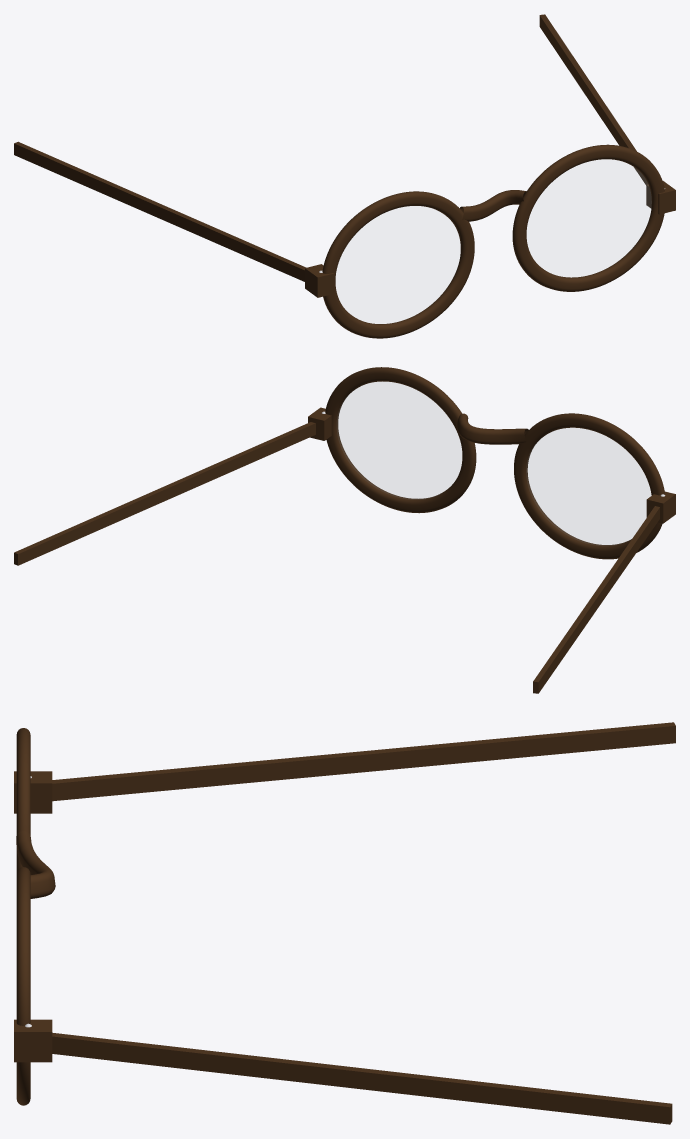
The model's file is glasses_fit.fbx.
3 views of the same model, one above another, from view 1: azimuth 30°, elevation 25°; view 2: azimuth 150°, elevation 25°; view 3: azimuth 270°, elevation 25° (orthographic). The views are drawn at different scales.
Parts seen in each view (by area): view 1: SM_Glasses_Fit; view 2: SM_Glasses_Fit; view 3: SM_Glasses_Fit.
Boxes of the visible parts, box(x1,y1,x2,y2) form: SM_Glasses_Fit: box(14, 14, 675, 338); SM_Glasses_Fit: box(14, 367, 675, 693); SM_Glasses_Fit: box(14, 722, 675, 1124).
Size of the model in its own units: 19.02 by 4.86 by 13.79.
